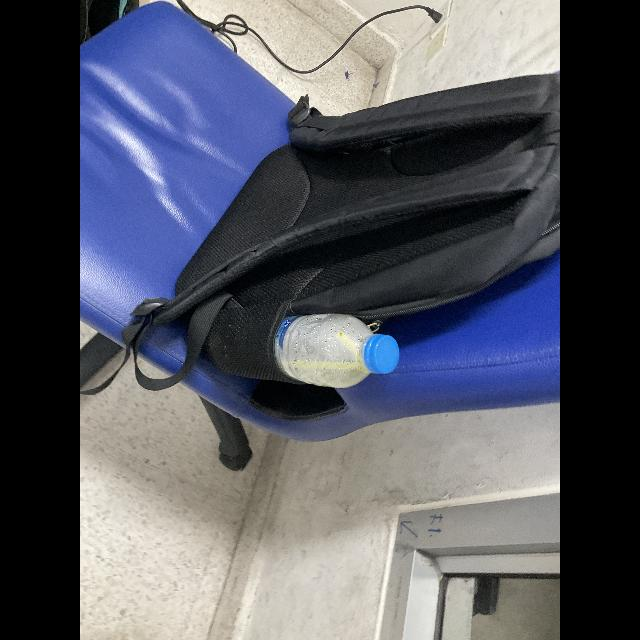plastic_bottle: (268, 310, 404, 390)
plastic_bottle_cap: (363, 334, 401, 376)
straw: (280, 332, 366, 373)
